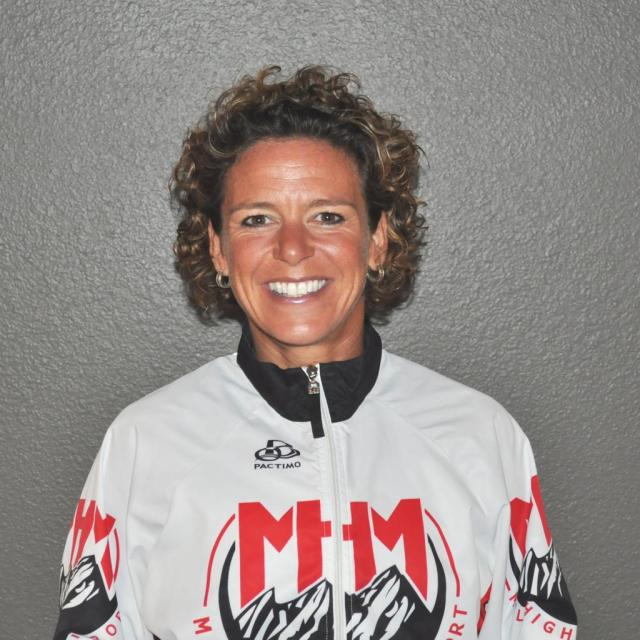Face: (192, 129, 410, 351)
